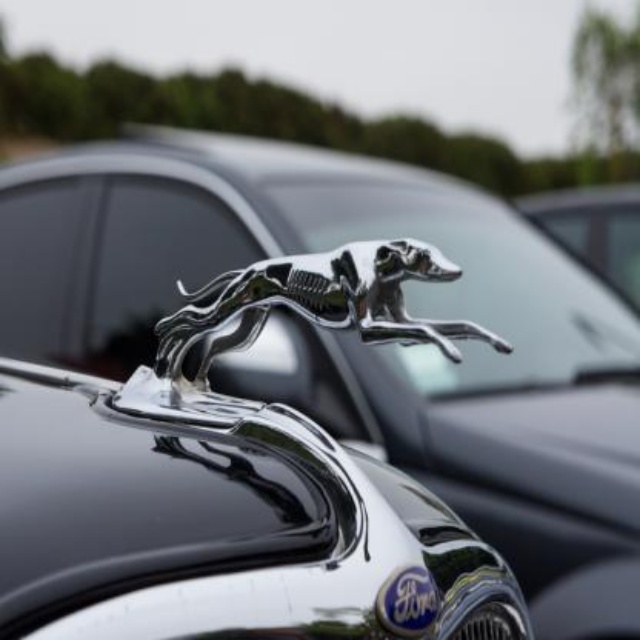Car: (0, 139, 640, 640), (0, 236, 532, 640), (525, 185, 639, 333)
